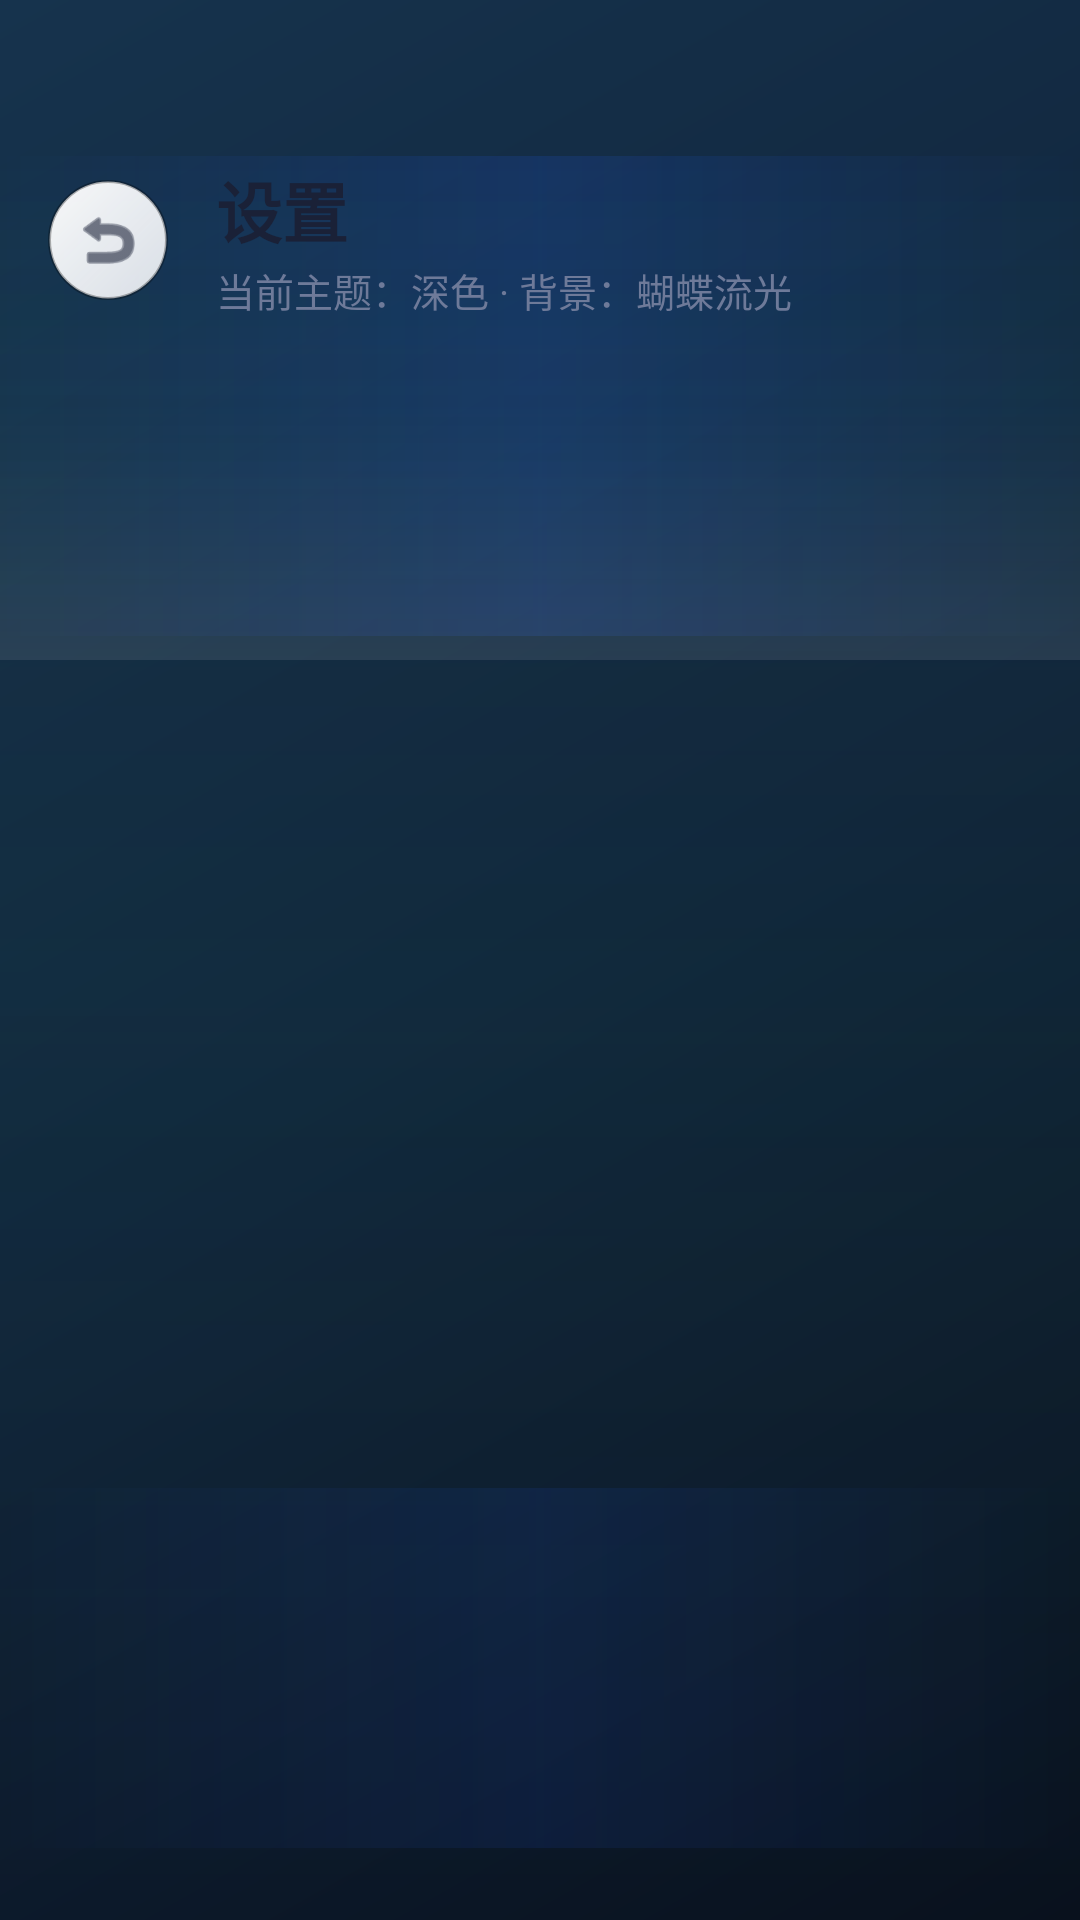

Named icons in this screenshot (1080 x 1920) and their centers, (x,y):
revert: (107,240)
